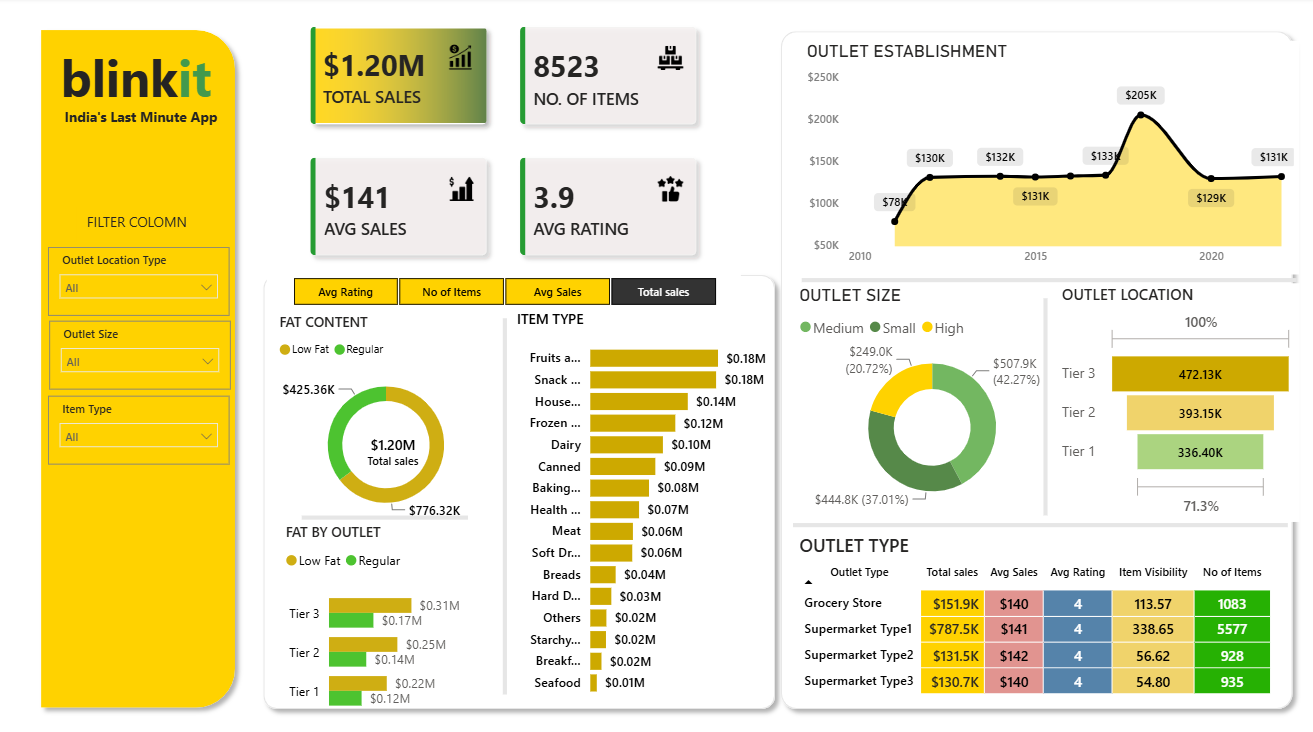

The dashboard page shown, as its layout file describes it:
{"tool":"powerbi","page":{"name":"Page 1","canvas":[1280,720],"ordinal":0},"visuals":[{"type":"shape","box":[37.4,22.9,205.1,672],"z":0},{"type":"textbox","box":[50.7,39.8,174.9,74.8],"z":1000},{"type":"textbox","box":[63.9,101.3,174.9,35],"z":2000},{"type":"cardVisual","fields":{"Data":["BlinkIT Grocery Data.Total sales","BlinkIT Grocery Data.No of Items","BlinkIT Grocery Data.Avg Sales","BlinkIT Grocery Data.Avg Rating"]},"box":[277.5,0,430.7,278.7],"z":3000},{"type":"shape","box":[252.1,259.4,511.5,436.7],"z":4000},{"type":"donutChart","title":"FAT CONTENT","fields":{"Y":["BlinkIT Grocery Data.Total sales"],"Category":["BlinkIT Grocery Data.Item Fat Content"]},"box":[271.4,304,216,211.1],"z":5000},{"type":"slicer","fields":{"Values":["Metrics.Metrics"]},"box":[264.2,264.2,457.2,39.8],"z":6000},{"type":"cardVisual","fields":{"Data":["BlinkIT Grocery Data.Total sales"]},"box":[326.9,399.3,118.2,78.4],"z":7000},{"type":"clusteredBarChart","title":"FAT BY OUTLET","fields":{"Y":["BlinkIT Grocery Data.Total sales"],"Category":["BlinkIT Grocery Data.Outlet Location Type"],"Series":["BlinkIT Grocery Data.Item Fat Content"]},"box":[277.5,506.7,178.6,199.1],"z":8000},{"type":"shape","box":[298,487.4,160.5,30.2],"z":9000},{"type":"shape","box":[487.4,310.1,13.3,363.1],"z":10000},{"type":"barChart","title":"ITEM TYPE","fields":{"Y":["BlinkIT Grocery Data.Total sales"],"Category":["BlinkIT Grocery Data.Item Type"]},"box":[500.7,301.6,250.9,382.4],"z":11000},{"type":"shape","box":[751.6,24.1,511.5,672],"z":12000},{"type":"lineChart","title":"OUTLET ESTABLISHMENT","fields":{"Y":["BlinkIT Grocery Data.Total sales"],"Category":["BlinkIT Grocery Data.Outlet Establishment Year"]},"box":[780.6,42.2,480.2,225.6],"z":13000},{"type":"shape","box":[780.6,267.8,477.8,10.9],"z":14000},{"type":"donutChart","title":"OUTLET SIZE","fields":{"Y":["BlinkIT Grocery Data.Total sales"],"Category":["BlinkIT Grocery Data.Outlet Size"]},"box":[773.3,277.5,266.6,225.6],"z":15000},{"type":"shape","box":[1009.8,290.8,12.1,209.9],"z":16000},{"type":"funnel","title":"OUTLET LOCATION","fields":{"Category":["BlinkIT Grocery Data.Outlet Location Type"],"Y":["Sum(BlinkIT Grocery Data.Sales)"]},"box":[1026.7,276.3,234,230.4],"z":17000},{"type":"shape","box":[772.1,494.6,477.8,30.2],"z":18000},{"type":"pivotTable","title":"OUTLET TYPE","fields":{"Rows":["BlinkIT Grocery Data.Outlet Type"],"Values":["BlinkIT Grocery Data.Total sales","BlinkIT Grocery Data.Avg Sales","BlinkIT Grocery Data.Avg Rating","Sum(BlinkIT Grocery Data.Item Visibility)","BlinkIT Grocery Data.No of Items"]},"box":[773.3,517.6,487.4,170.1],"z":19000},{"type":"slicer","fields":{"Values":["BlinkIT Grocery Data.Outlet Location Type"]},"box":[53.1,241.3,174.9,66.4],"z":20000},{"type":"slicer","fields":{"Values":["BlinkIT Grocery Data.Outlet Size"]},"box":[54.3,312.5,174.9,66.4],"z":21000},{"type":"slicer","fields":{"Values":["BlinkIT Grocery Data.Item Type"]},"box":[53.1,384.9,174.9,66.4],"z":22000},{"type":"textbox","box":[80.8,202.7,115.8,33.8],"z":23000}]}

Visuals, with their boxes in screenshot pixels (x1, y1, x2, y2), scaled from the page's 1280x720 canvas onto the 1313x732 screenshot:
shape: (x1=38, y1=23, x2=249, y2=706)
textbox: (x1=52, y1=40, x2=231, y2=117)
textbox: (x1=66, y1=103, x2=245, y2=139)
cardVisual - BlinkIT Grocery Data.Total sales x BlinkIT Grocery Data.No of Items: (x1=285, y1=0, x2=726, y2=283)
shape: (x1=259, y1=264, x2=783, y2=708)
"FAT CONTENT" donutChart: (x1=278, y1=309, x2=500, y2=524)
slicer - Metrics.Metrics: (x1=271, y1=269, x2=740, y2=309)
cardVisual - BlinkIT Grocery Data.Total sales: (x1=335, y1=406, x2=457, y2=486)
"FAT BY OUTLET" clusteredBarChart: (x1=285, y1=515, x2=468, y2=718)
shape: (x1=306, y1=496, x2=470, y2=526)
shape: (x1=500, y1=315, x2=514, y2=684)
"ITEM TYPE" barChart: (x1=514, y1=307, x2=771, y2=695)
shape: (x1=771, y1=25, x2=1296, y2=708)
"OUTLET ESTABLISHMENT" lineChart: (x1=801, y1=43, x2=1293, y2=272)
shape: (x1=801, y1=272, x2=1291, y2=283)
"OUTLET SIZE" donutChart: (x1=793, y1=282, x2=1067, y2=511)
shape: (x1=1036, y1=296, x2=1048, y2=509)
"OUTLET LOCATION" funnel: (x1=1053, y1=281, x2=1293, y2=515)
shape: (x1=792, y1=503, x2=1282, y2=534)
"OUTLET TYPE" pivotTable: (x1=793, y1=526, x2=1293, y2=699)
slicer - BlinkIT Grocery Data.Outlet Location Type: (x1=54, y1=245, x2=234, y2=313)
slicer - BlinkIT Grocery Data.Outlet Size: (x1=56, y1=318, x2=235, y2=385)
slicer - BlinkIT Grocery Data.Item Type: (x1=54, y1=391, x2=234, y2=459)
textbox: (x1=83, y1=206, x2=202, y2=240)
